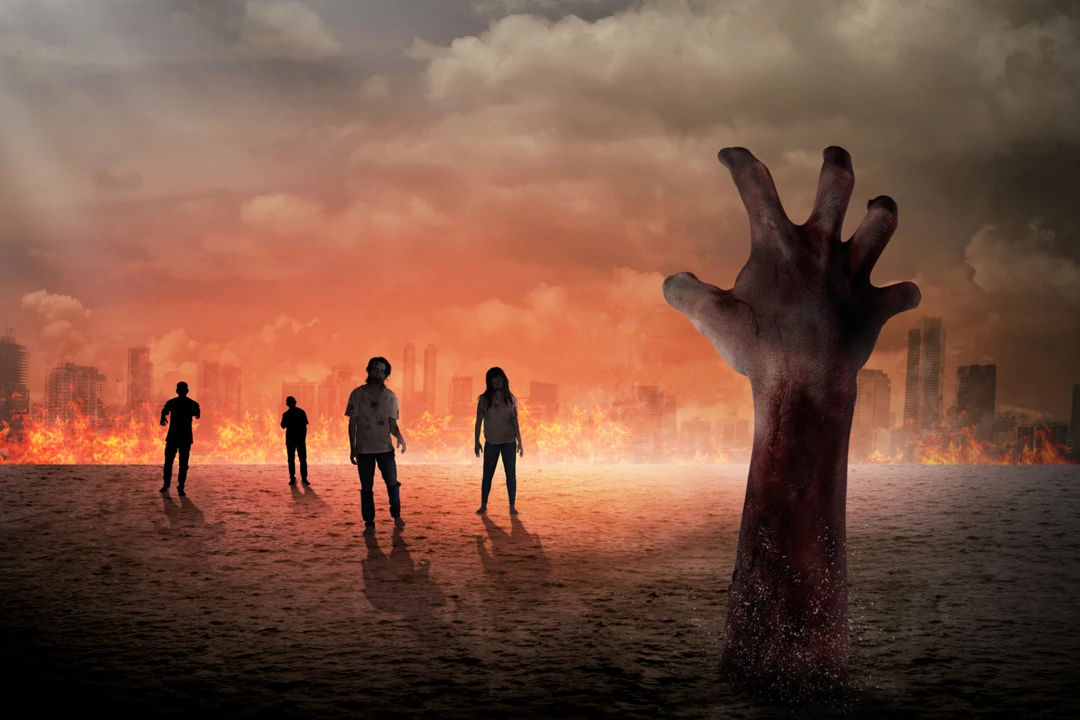human: (343, 355, 408, 533), (472, 364, 524, 523), (158, 378, 201, 497), (279, 393, 311, 489)
